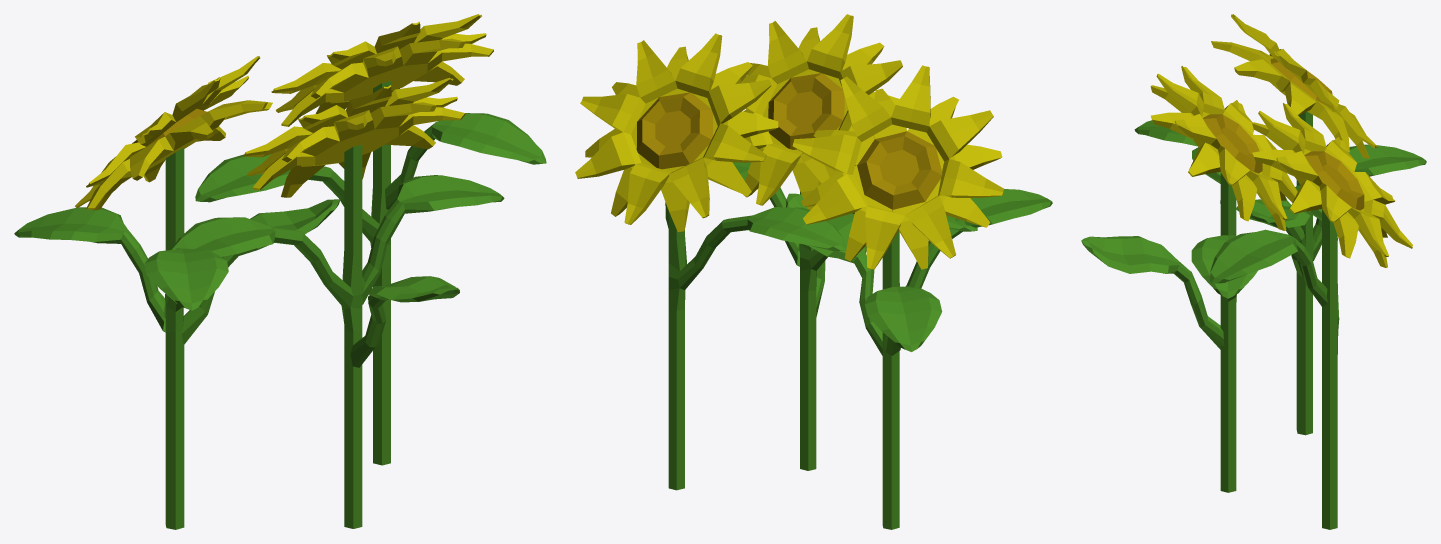
The model's file is SunFlowers.fbx.
3 renders of one model, left to right at view 1: azimuth 30°, elevation 25°; view 2: azimuth 150°, elevation 25°; view 3: azimuth 270°, elevation 25°, orthographic. The views are drawn at different scales.
Parts seen in each view (by area): view 1: polySurface1 (×3), pasted__pCylinder1 (×3), polySurface2 (×3), pasted__pCylinder2 (×3), polySurface3 (×2); view 2: pasted__pCylinder2 (×3), pasted__pCylinder1 (×3), polySurface1 (×3), polySurface2 (×2), polySurface3; view 3: polySurface1 (×3), pasted__pCylinder2 (×3), pasted__pCylinder1 (×3), polySurface2 (×3), polySurface3 (×2).
Boxes of the visible parts, <box> form: polySurface1 (×3): <box>144,81,390,529</box>; pasted__pCylinder1 (×3): <box>86,38,493,210</box>; polySurface2 (×3): <box>14,113,546,332</box>; pasted__pCylinder2 (×3): <box>75,14,486,208</box>; polySurface3 (×2): <box>181,199,459,367</box>; pasted__pCylinder2 (×3): <box>575,14,1003,269</box>; pasted__pCylinder1 (×3): <box>585,27,1002,269</box>; polySurface1 (×3): <box>668,189,1052,529</box>; polySurface2 (×2): <box>732,162,942,355</box>; polySurface3: <box>786,193,882,356</box>; polySurface1 (×3): <box>1134,111,1339,529</box>; pasted__pCylinder2 (×3): <box>1156,14,1412,256</box>; pasted__pCylinder1 (×3): <box>1150,41,1387,267</box>; polySurface2 (×3): <box>1191,144,1426,306</box>; polySurface3 (×2): <box>1081,199,1310,349</box>.
Bounding box in the file's own units: 10.33 × 10.92 × 8.19.
